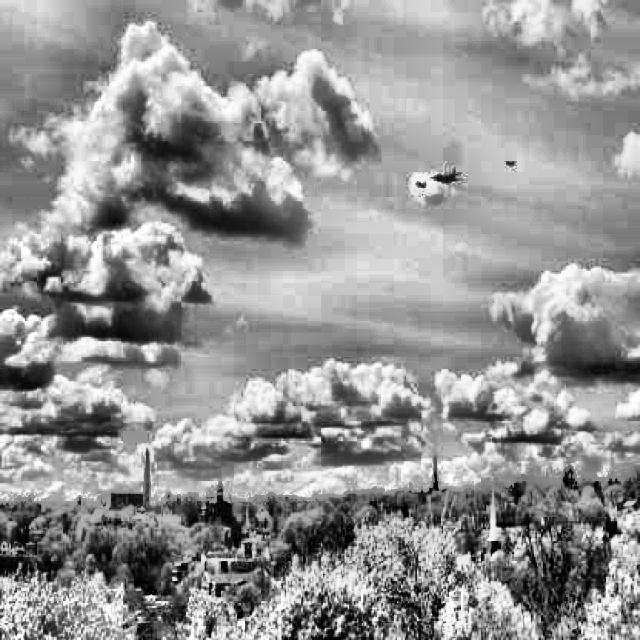C130: (428, 168, 462, 184)
F16: (503, 158, 517, 167), (416, 181, 426, 188)
